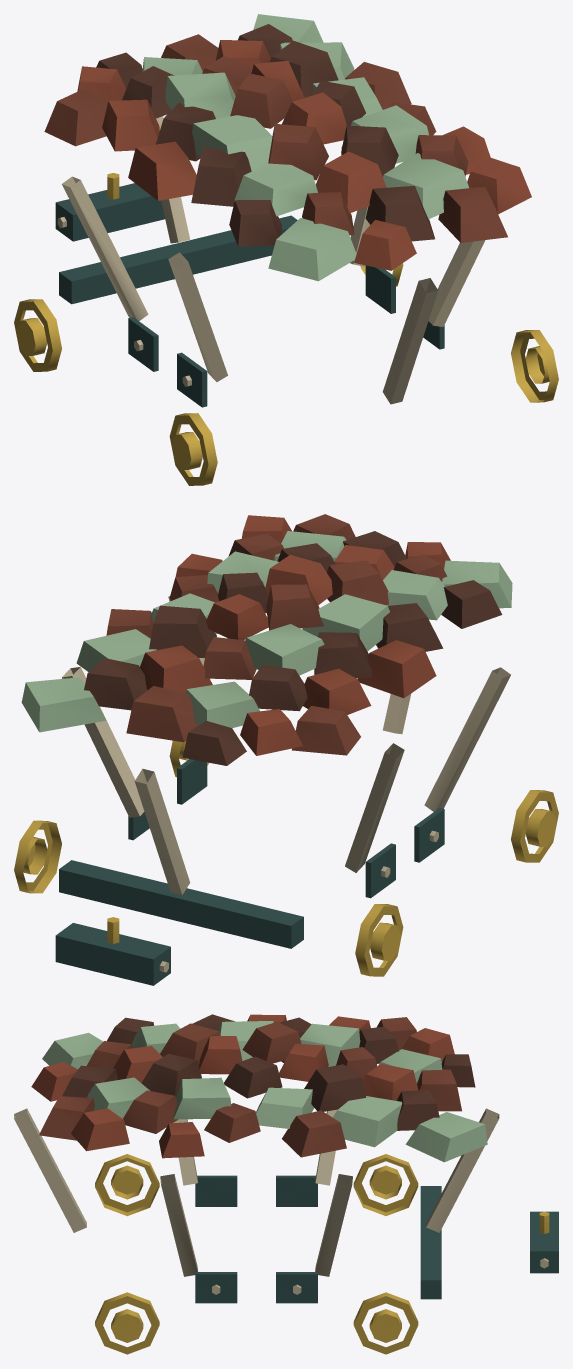
File: ore_cart_detail1.glb
3 views of the same model, one above another, from view 1: azimuth 30°, elevation 25°; view 2: azimuth 150°, elevation 25°; view 3: azimuth 270°, elevation 25° (orthographic). The views are drawn at different scales.
Visible parts, largest first — view 1: Detail1; view 2: Detail1; view 3: Detail1.
Part boxes in pixels (left/top/right/bottom): Detail1: left=14, top=14, right=558, bottom=485; Detail1: left=14, top=514, right=558, bottom=985; Detail1: left=14, top=1014, right=558, bottom=1354.
Bounding box in the file's own units: 2.17 × 1.69 × 3.37.
